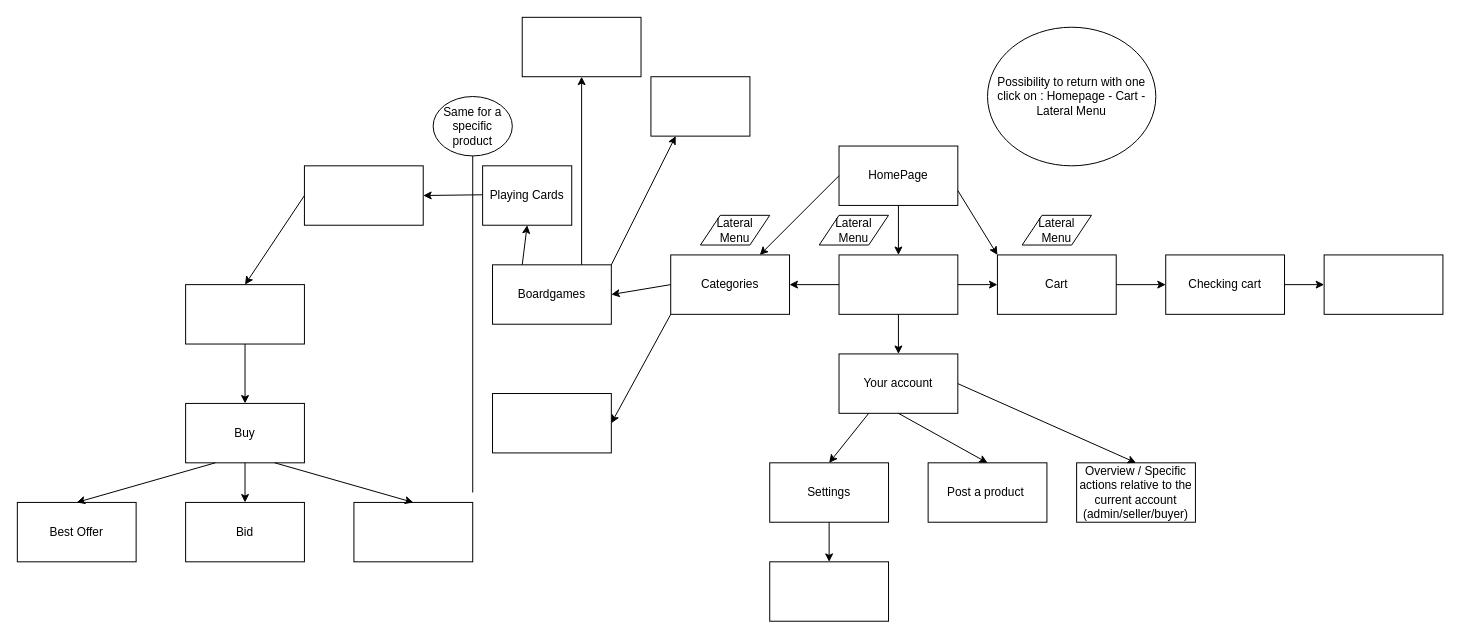
The diagram is 1460 pixels wide and 639 high, and some of its shapes have lost their labels. The centre of each missing label's shape, as x and y in pixels:
Bikes: the point at 551,423
Buy Immediately: the point at 413,531
Classic Games: the point at 700,106
Figurines Games: the point at 581,46
Log In / Sign Up: the point at 898,284
Modify something: the point at 829,591
Overview of all playing cards: the point at 363,195
Specific playing Cards: the point at 244,314
Summary of order: the point at 1383,284
